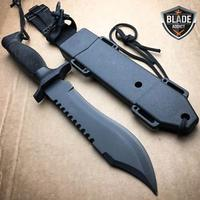knife: (3, 28, 160, 197)
